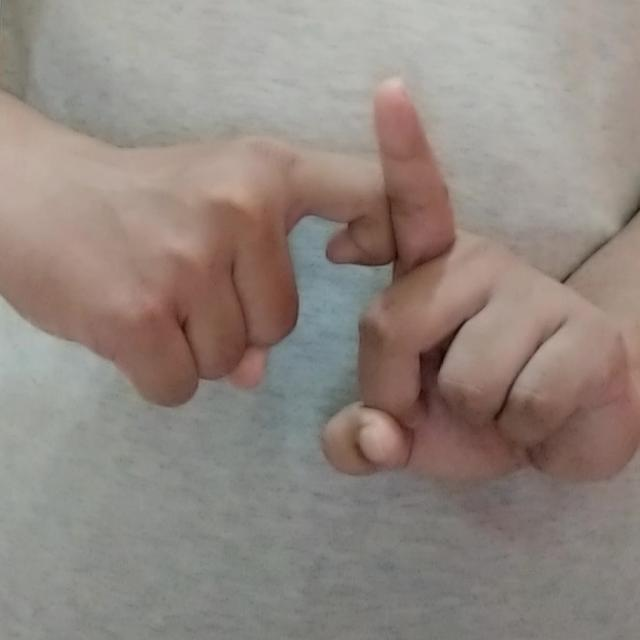K: (69, 69, 620, 498)
